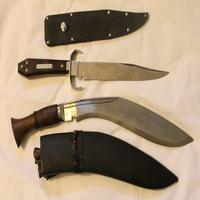knife: (5, 95, 197, 149), (13, 51, 178, 95)
